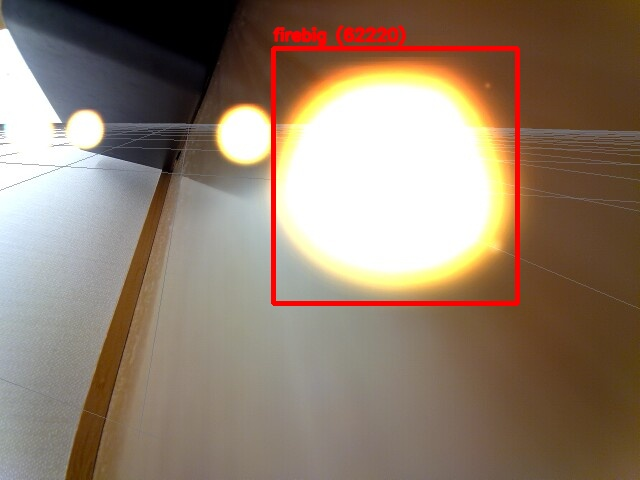firebig: (273, 48, 517, 303)
